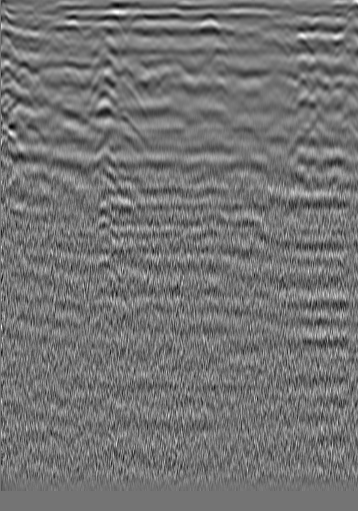가스: (86, 161, 131, 195)
상수: (22, 15, 42, 35)
오수: (309, 19, 329, 39)
우수: (170, 29, 190, 49)
